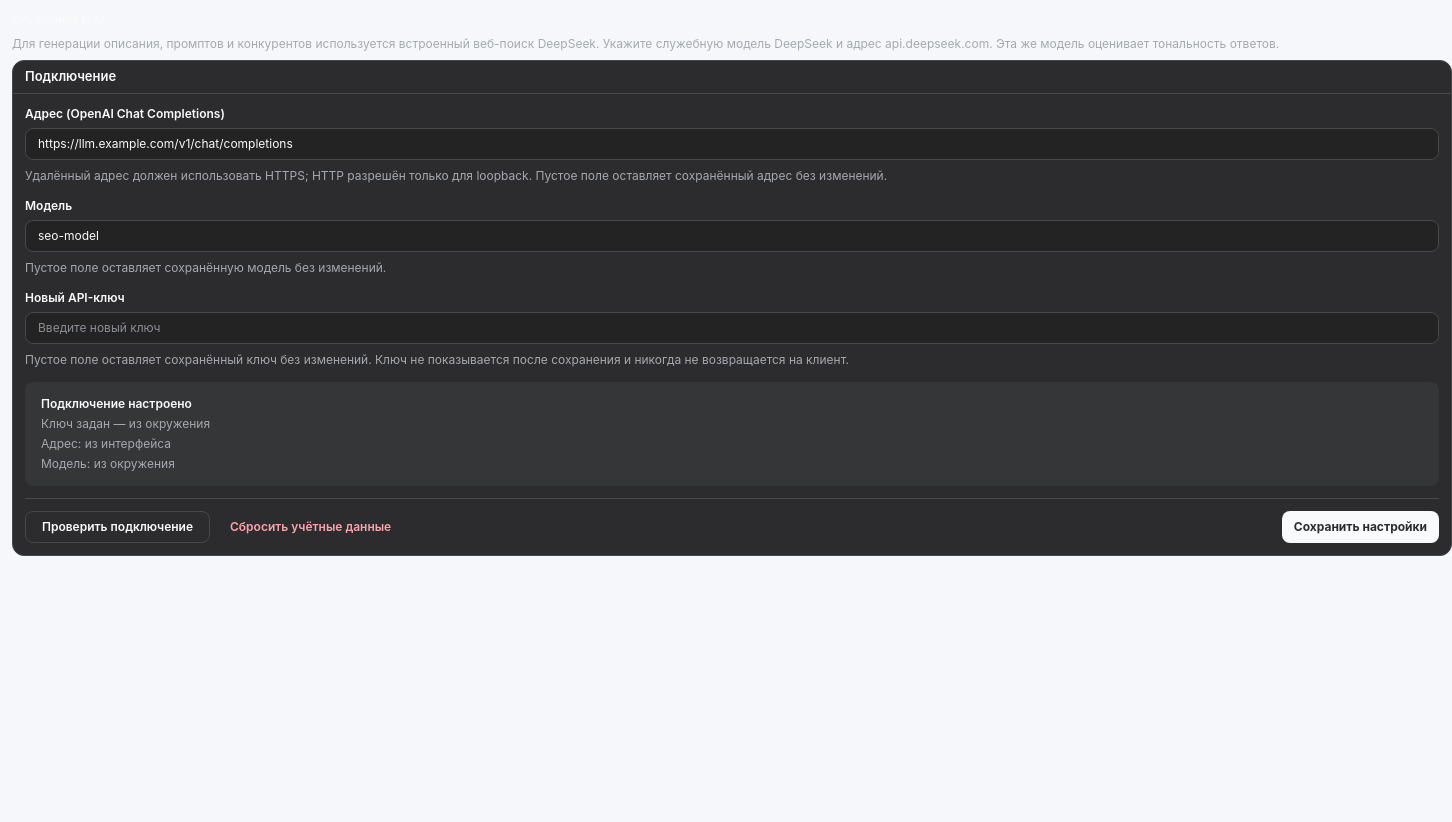
SeoSettingsPanel › saves changed endpoint, model and a nonempty key, then clears the key input
The width and height of the screenshot is (1452, 822).
Replace the text in the field labelled "Адрес (OpenAI Chat Completions)" with "https://llm.example.com/v2/chat/completions" at (732, 144), box [25,128,1439,160]
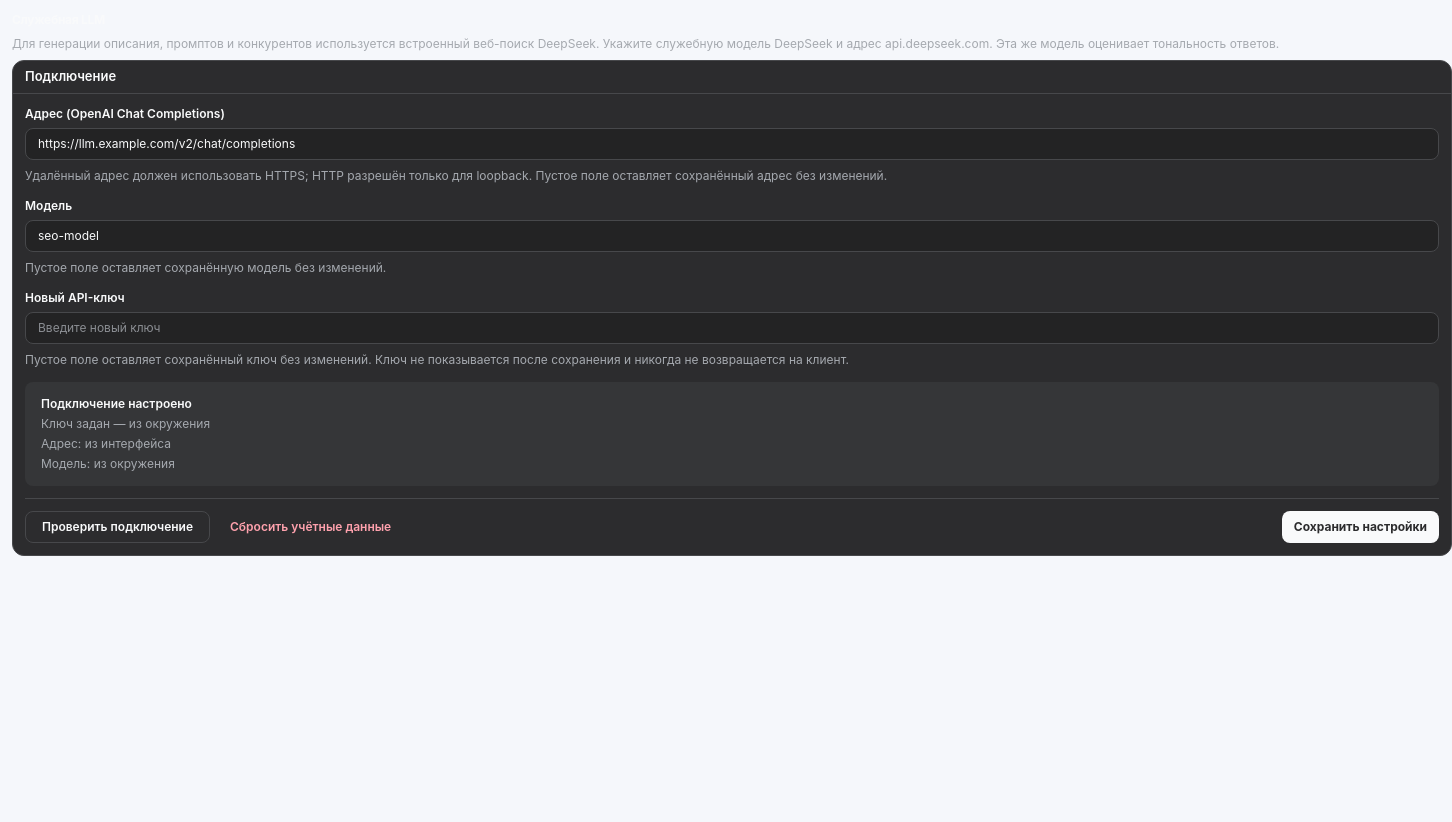
Replace the text in the field labelled "Модель" with "new-model" at (732, 236), box [25,220,1439,252]
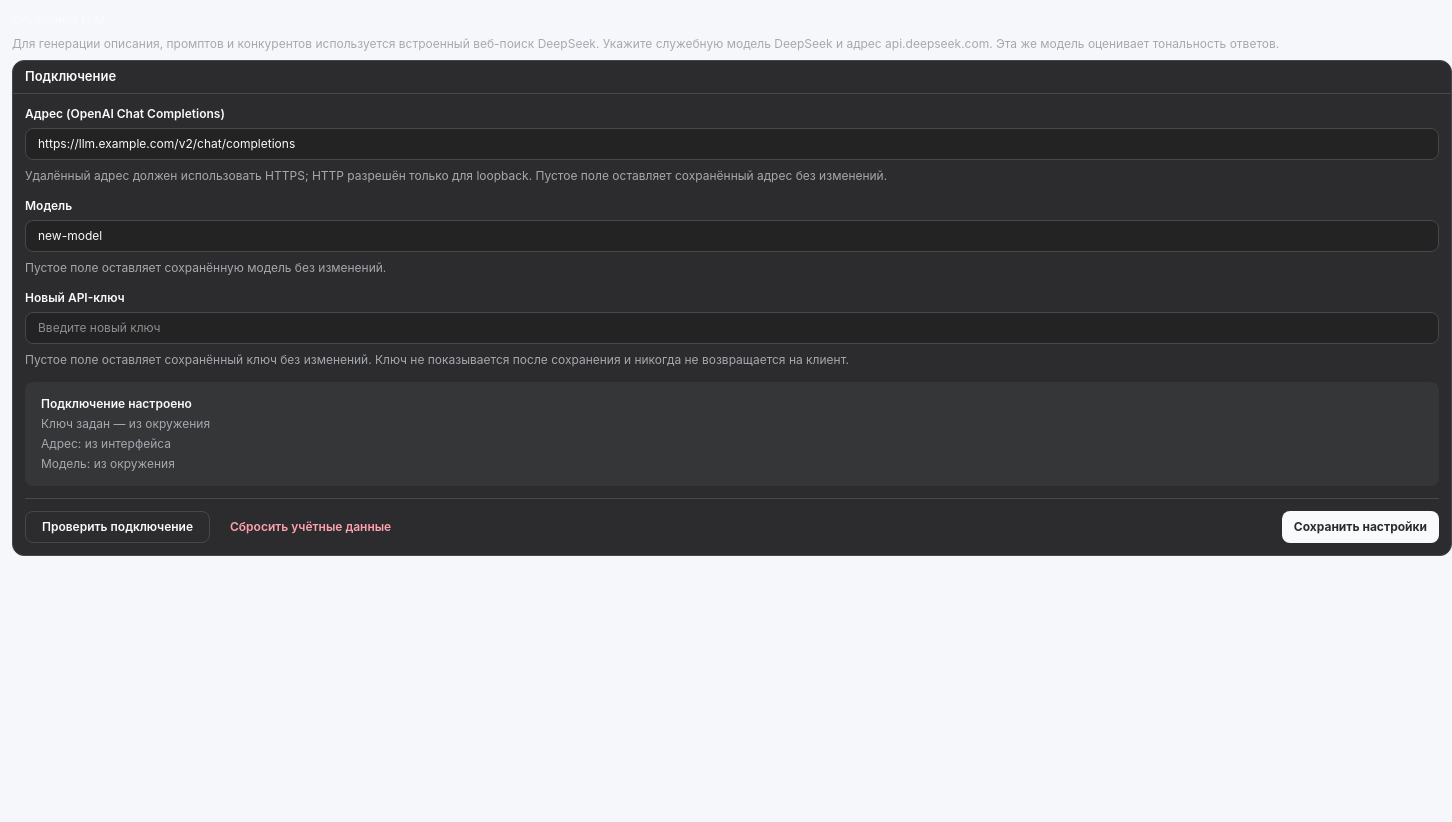
Type "new-secret" into the password field labelled "Новый API-ключ" at (732, 328), box [25,312,1439,344]
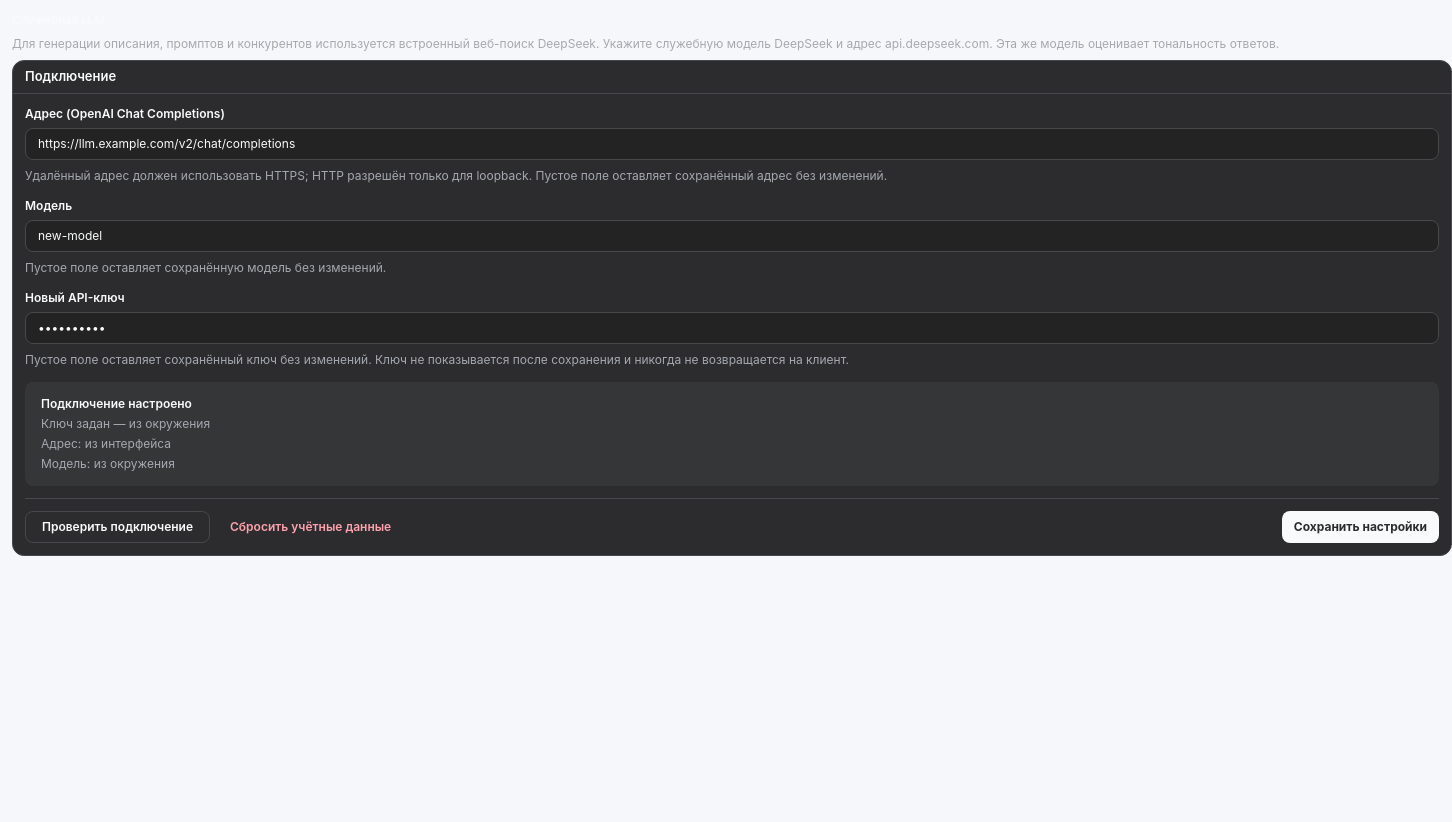
Click the button "Сохранить настройки" at (1360, 526), box [1282,510,1439,542]
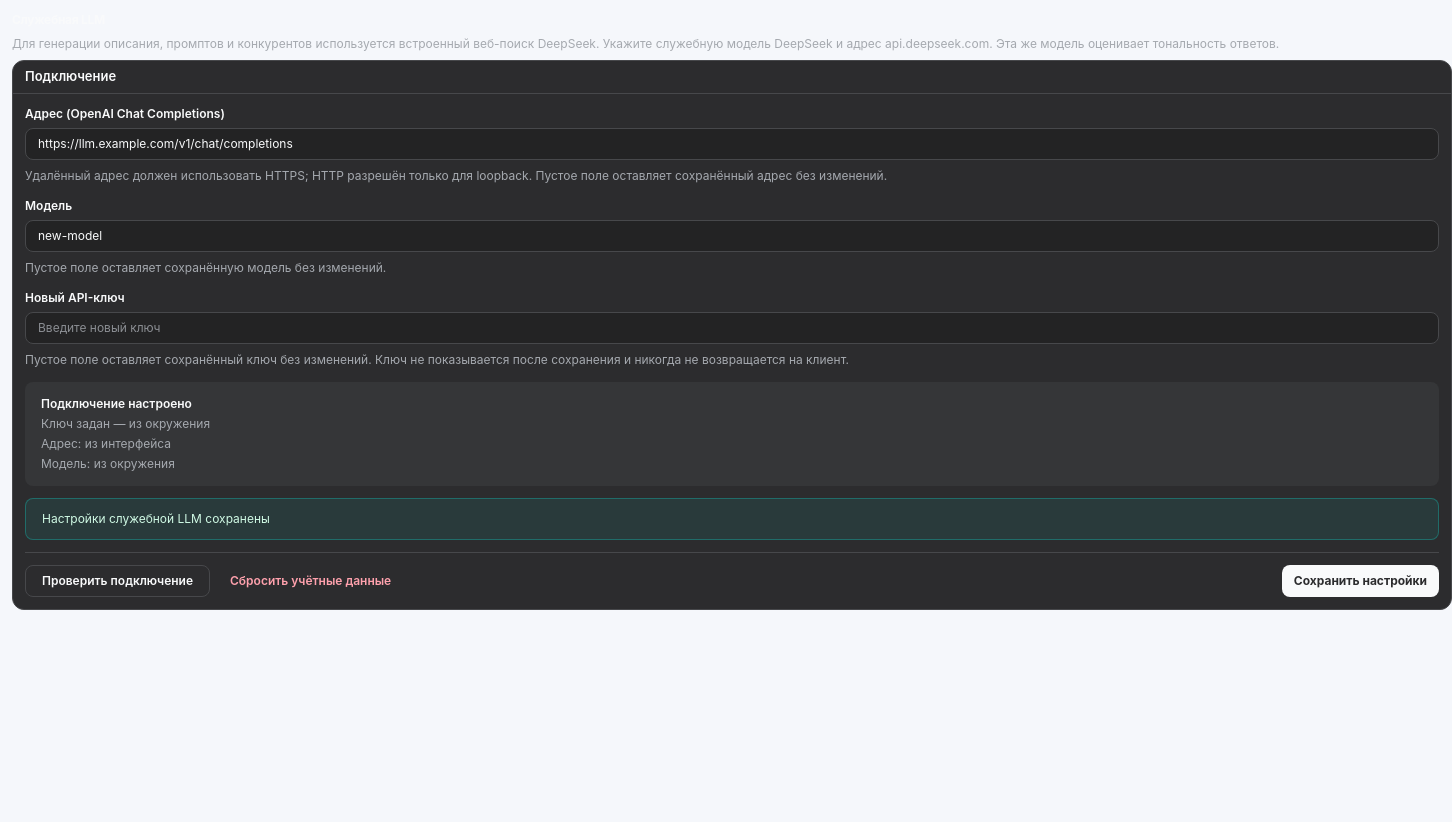
Expected: the password field labelled "Новый API-ключ" is empty, [25,312,1439,344]
Expected: the message shows "сохранены", [42,510,270,526]
